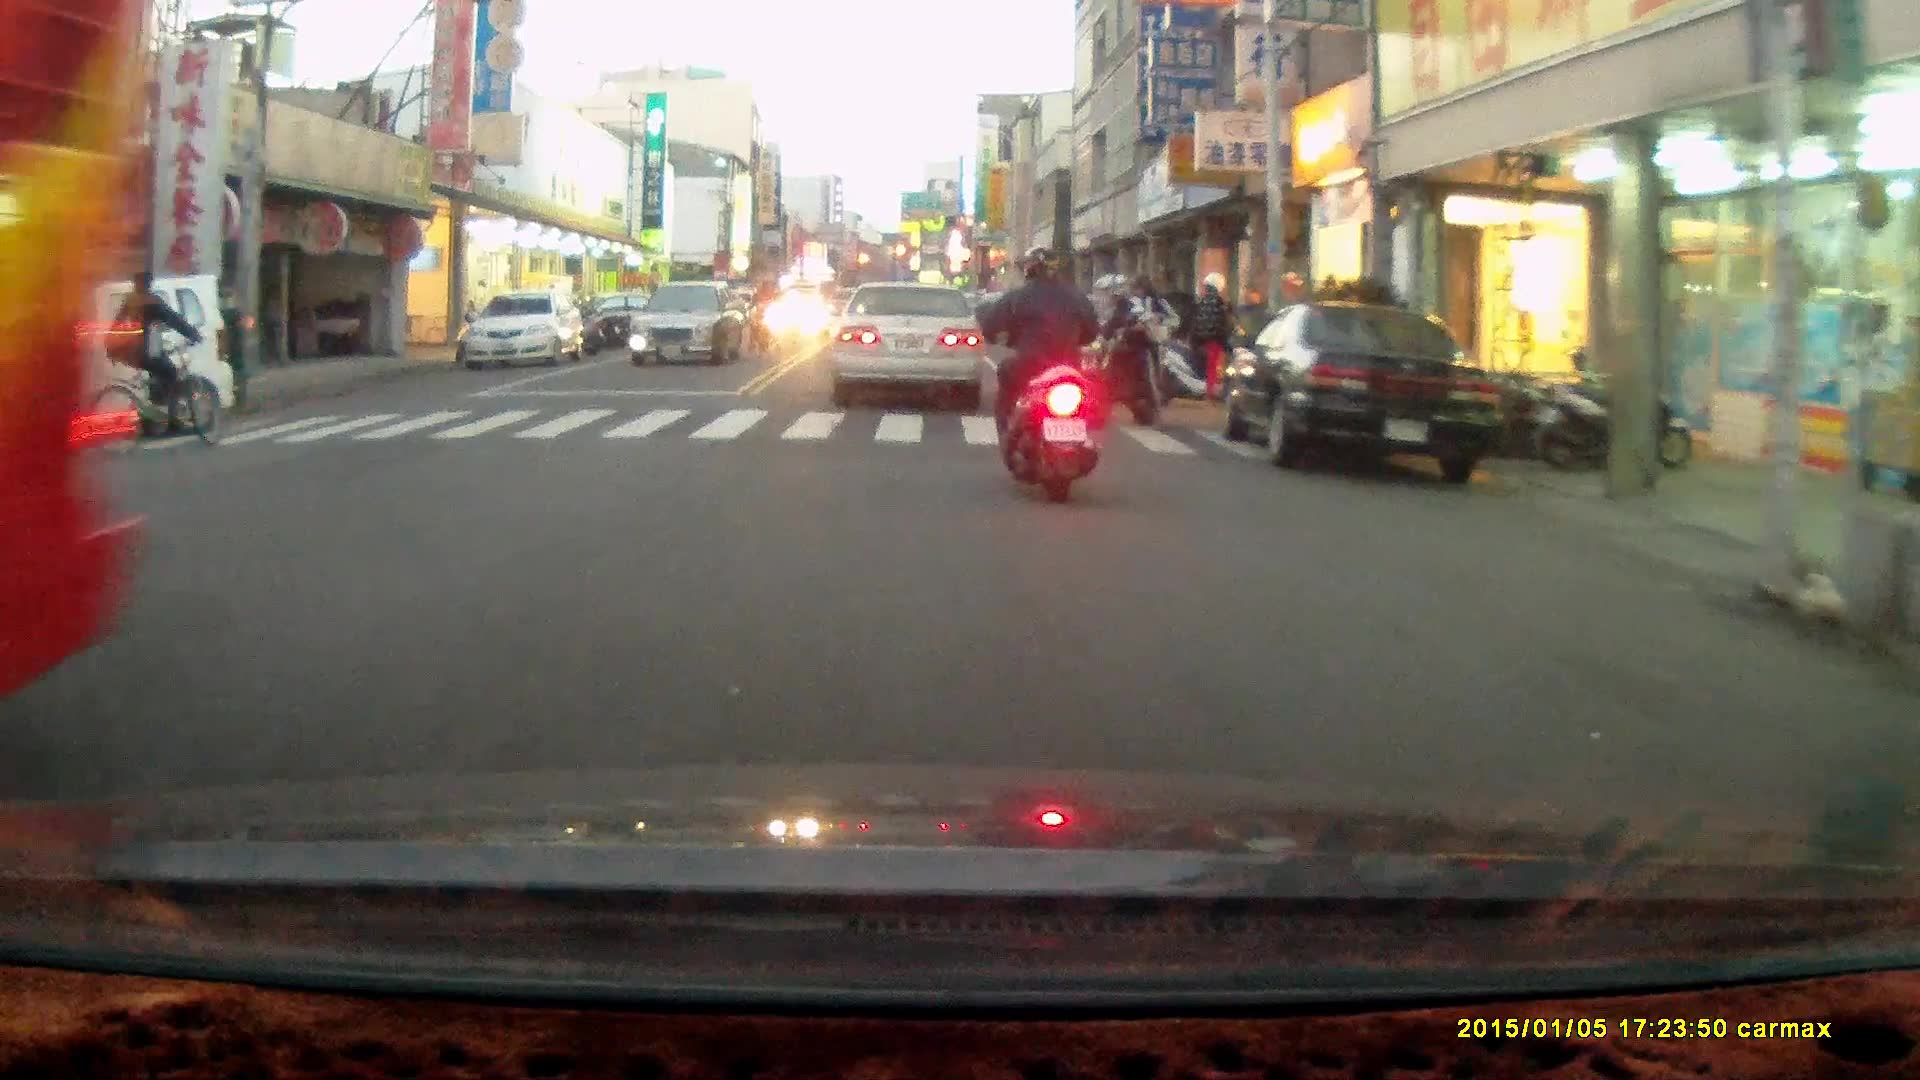pedestrian: (1195, 267, 1236, 408)
rider: (980, 239, 1104, 502), (86, 271, 220, 450), (1069, 266, 1181, 424), (744, 274, 788, 356)
vehicle: (1, 16, 139, 701), (1220, 302, 1509, 478), (43, 282, 234, 451), (840, 279, 1004, 407), (461, 291, 584, 369), (635, 279, 746, 364)
